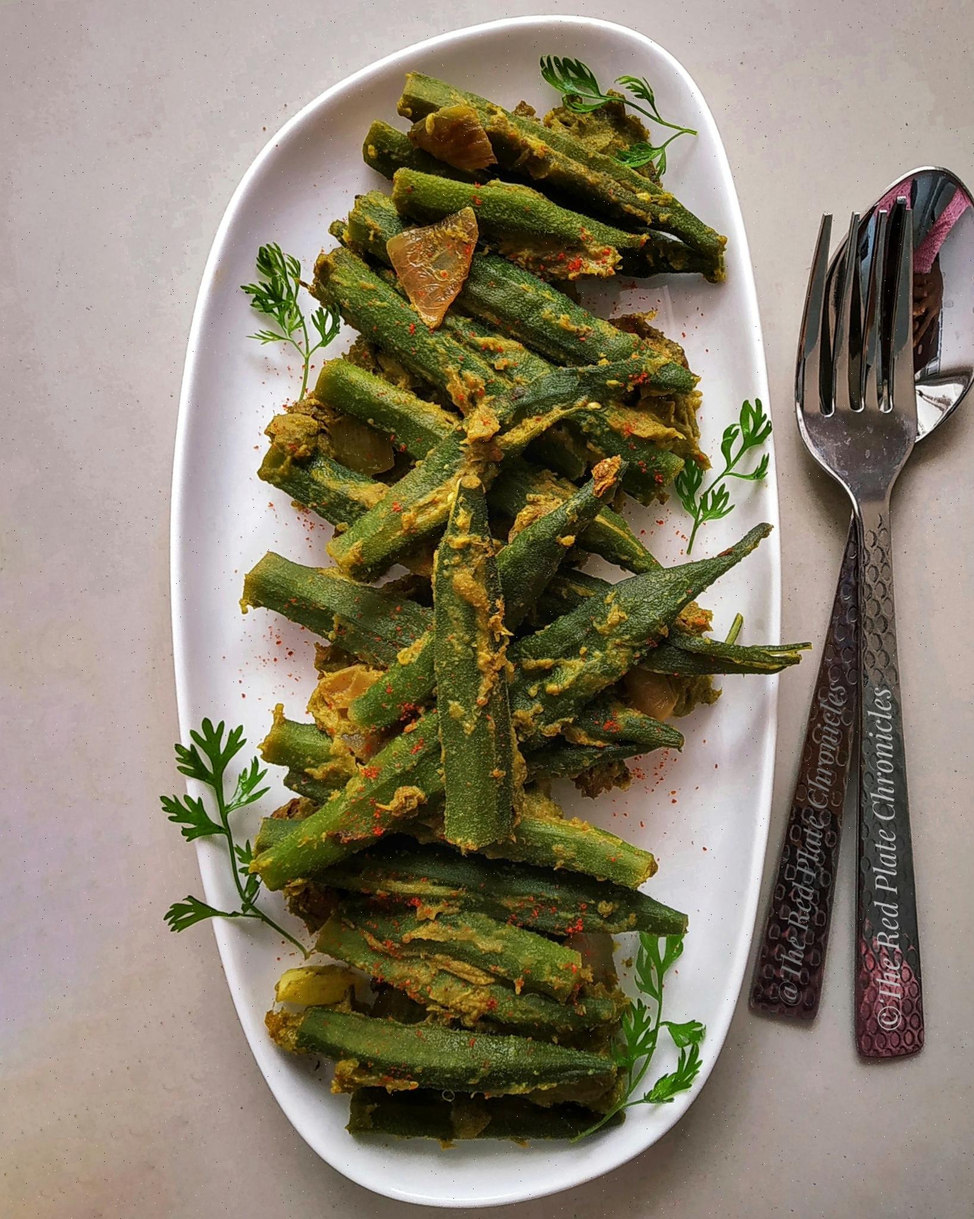bhindi: (274, 97, 696, 1125)
